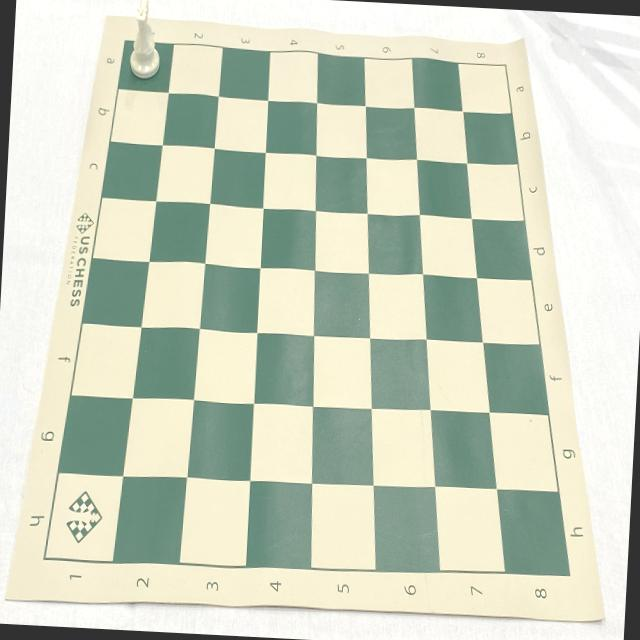white-knight: (128, 0, 165, 82)
